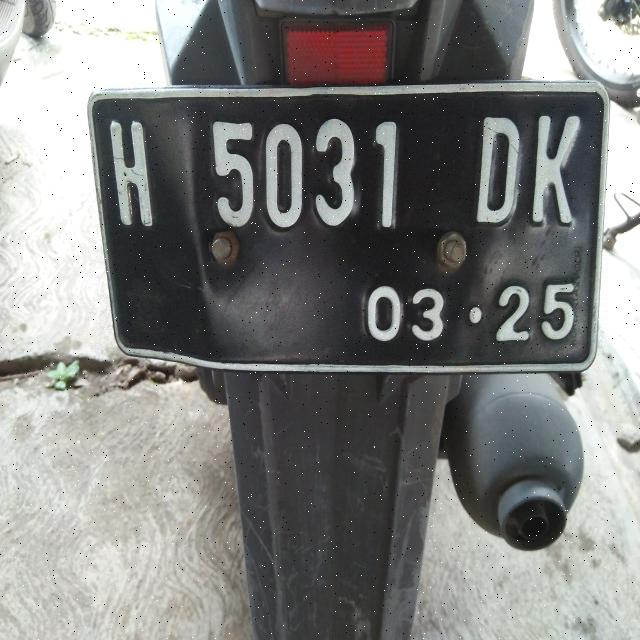plate: (90, 83, 607, 371)
